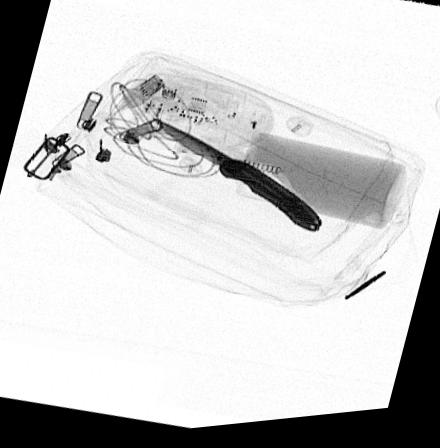Knife: (148, 119, 323, 242)
